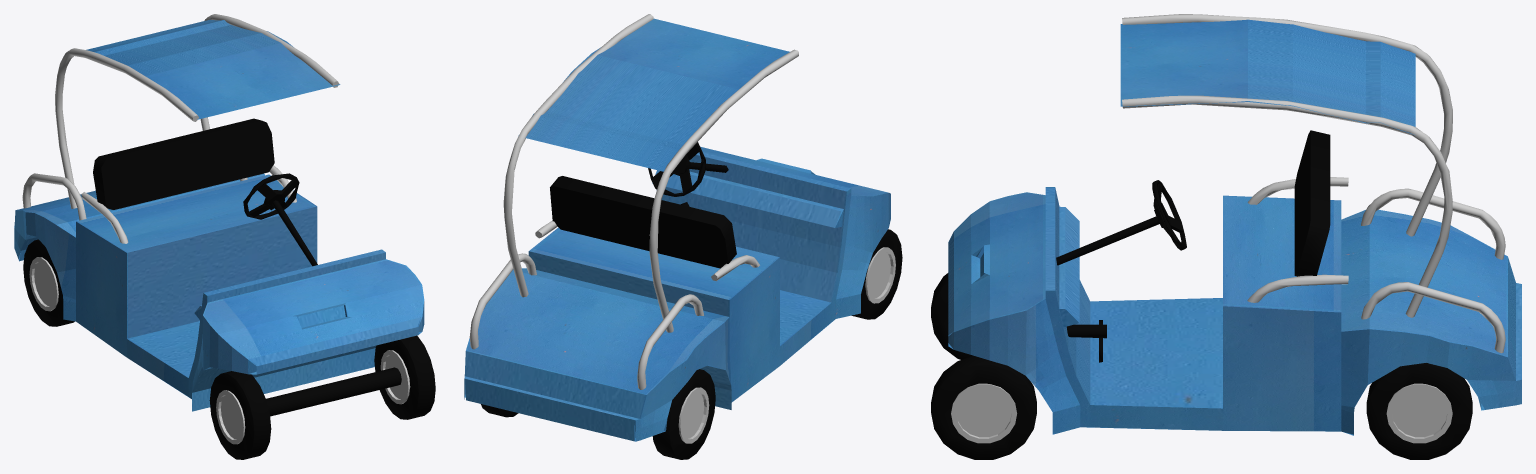
The model's file is golfcart.glb.
The picture shows the model from 3 angles, left to right: view 1: azimuth 30°, elevation 25°; view 2: azimuth 150°, elevation 25°; view 3: azimuth 270°, elevation 25°; orthographic projection. The views are drawn at different scales.
Visible parts, largest first — view 1: Plane004_Material #27_0, Cylinder002_Material #31_0, Plane005_Material #34_0, Object001_Material #29_0, Line002_Material #32_0; view 2: Plane004_Material #27_0, Plane005_Material #34_0, Object001_Material #29_0, Cylinder002_Material #31_0, Line002_Material #32_0; view 3: Plane004_Material #27_0, Object001_Material #29_0, Plane005_Material #34_0, Line002_Material #32_0, Cylinder002_Material #31_0.
Part boxes in pixels (box(x1,y1,x2,y2)): Plane004_Material #27_0: box(17, 174, 422, 411); Cylinder002_Material #31_0: box(23, 118, 435, 459); Plane005_Material #34_0: box(86, 19, 340, 119); Object001_Material #29_0: box(14, 173, 424, 398); Line002_Material #32_0: box(22, 14, 410, 444); Plane004_Material #27_0: box(465, 146, 886, 441); Plane005_Material #34_0: box(518, 18, 789, 171); Object001_Material #29_0: box(464, 188, 890, 441); Cylinder002_Material #31_0: box(481, 142, 902, 459); Line002_Material #32_0: box(469, 14, 895, 443); Plane004_Material #27_0: box(948, 188, 1521, 435); Object001_Material #29_0: box(948, 187, 1521, 434); Plane005_Material #34_0: box(1120, 19, 1415, 135); Line002_Material #32_0: box(951, 14, 1505, 443); Cylinder002_Material #31_0: box(931, 130, 1472, 459).
Bounding box in the file's own units: 0.3912 × 0.5317 × 0.8071.
4 materials, 2 textured.
